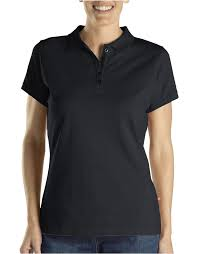C_polo shirt: (15, 26, 181, 225)
